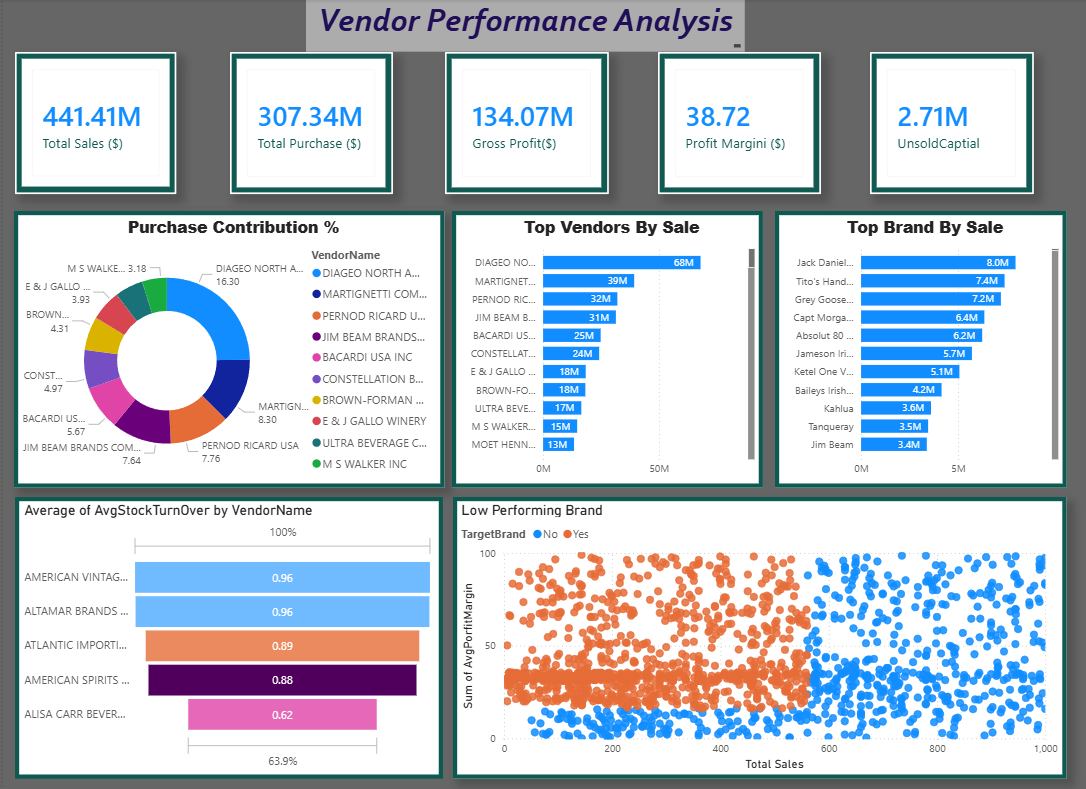

This screenshot's page, from the dashboard's own definition file:
{"tool":"powerbi","page":{"name":"Page 1","canvas":[1308,950],"ordinal":0},"visuals":[{"type":"group","id":"g1","title":"Group 1","box":[14.4,63.4,1219.2,169.9],"z":0},{"type":"cardVisual","fields":{"Data":["Sum(vendor_sales_summary.TotalSalesDollars)"]},"box":[14.4,63.8,193.1,169.7],"z":0,"group":"g1"},{"type":"cardVisual","fields":{"Data":["Sum(vendor_sales_summary.TotalPurchaseDollars)"]},"box":[271.4,63.4,194.7,170.1],"z":1000,"group":"g1"},{"type":"donutChart","title":"Purchase Contribution % ","fields":{"Y":["Sum(PurchaseContribution.PurchaseContribution%)"],"Category":["PurchaseContribution.VendorName"]},"box":[13.3,253.8,514.9,331.2],"z":1000},{"type":"cardVisual","fields":{"Data":["Sum(vendor_sales_summary.GrossProfit)"]},"box":[528.6,63.4,195.7,170.1],"z":2000,"group":"g1"},{"type":"clusteredBarChart","title":"Top Vendors By Sale","fields":{"Category":["vendor_sales_summary.VendorName"],"Y":["Sum(vendor_sales_summary.TotalSalesDollars)"]},"box":[536.7,253.8,372.3,331.2],"z":2000},{"type":"cardVisual","fields":{"Data":["Avg(vendor_sales_summary.ProfitMargin)"]},"box":[783.2,63.4,194.7,170.1],"z":3000,"group":"g1"},{"type":"clusteredBarChart","title":"Top Brand By Sale","fields":{"Category":["vendor_sales_summary.Description"],"Y":["Sum(vendor_sales_summary.TotalSalesDollars)"]},"box":[923.4,253.8,349.3,331.2],"z":3000},{"type":"cardVisual","fields":{"Data":["Sum(vendor_sales_summary.UnsoldCaptial)"]},"box":[1037.7,63.4,195.7,170.1],"z":4000,"group":"g1"},{"type":"funnel","fields":{"Category":["LowTurnOverVendor.VendorName"],"Y":["Avg(LowTurnOverVendor.AvgStockTurnOver)"]},"box":[14.5,595.9,512.5,337.2],"z":4000},{"type":"scatterChart","title":"Low Performing Brand","fields":{"Category":["BrandPerformance.Description"],"X":["Sum(BrandPerformance.TotalSales)"],"Series":["BrandPerformance.TargetBrand"],"Y":["Sum(BrandPerformance.AvgPorfitMargin)"]},"box":[537.9,595.9,733.7,337.2],"z":5000},{"type":"textbox","title":"Vendor Performance Analysis","box":[362.5,0,525.3,63.4],"z":6000}]}

Visuals, with their boxes in screenshot pixels (x1, y1, x2, y2), scaled from the page's 1308x950 canvas onto the 1086x789 screenshot:
"Group 1" group: {"left": 12, "top": 53, "right": 1024, "bottom": 194}
cardVisual - Sum(vendor_sales_summary.TotalSalesDollars): {"left": 12, "top": 53, "right": 172, "bottom": 194}
cardVisual - Sum(vendor_sales_summary.TotalPurchaseDollars): {"left": 225, "top": 53, "right": 387, "bottom": 194}
"Purchase Contribution % " donutChart: {"left": 11, "top": 211, "right": 439, "bottom": 486}
cardVisual - Sum(vendor_sales_summary.GrossProfit): {"left": 439, "top": 53, "right": 601, "bottom": 194}
"Top Vendors By Sale" clusteredBarChart: {"left": 446, "top": 211, "right": 755, "bottom": 486}
cardVisual - Avg(vendor_sales_summary.ProfitMargin): {"left": 650, "top": 53, "right": 812, "bottom": 194}
"Top Brand By Sale" clusteredBarChart: {"left": 767, "top": 211, "right": 1057, "bottom": 486}
cardVisual - Sum(vendor_sales_summary.UnsoldCaptial): {"left": 862, "top": 53, "right": 1024, "bottom": 194}
funnel - LowTurnOverVendor.VendorName x Avg(LowTurnOverVendor.AvgStockTurnOver): {"left": 12, "top": 495, "right": 438, "bottom": 775}
"Low Performing Brand" scatterChart: {"left": 447, "top": 495, "right": 1056, "bottom": 775}
"Vendor Performance Analysis" textbox: {"left": 301, "top": 0, "right": 737, "bottom": 53}
